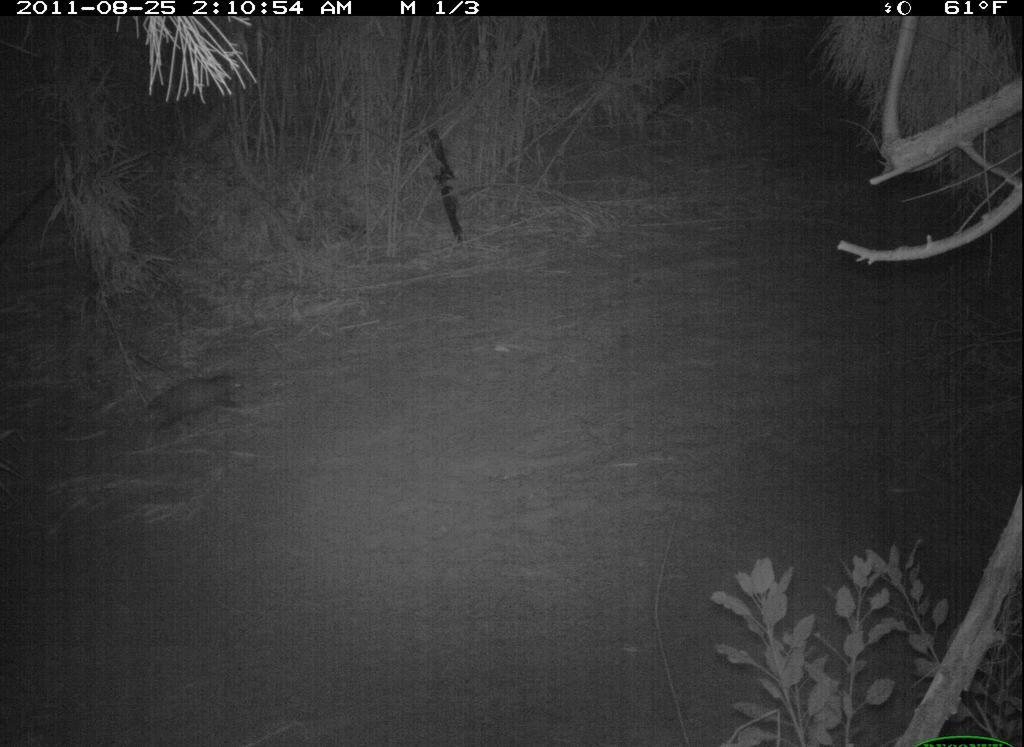opossum: (135, 361, 255, 429)
